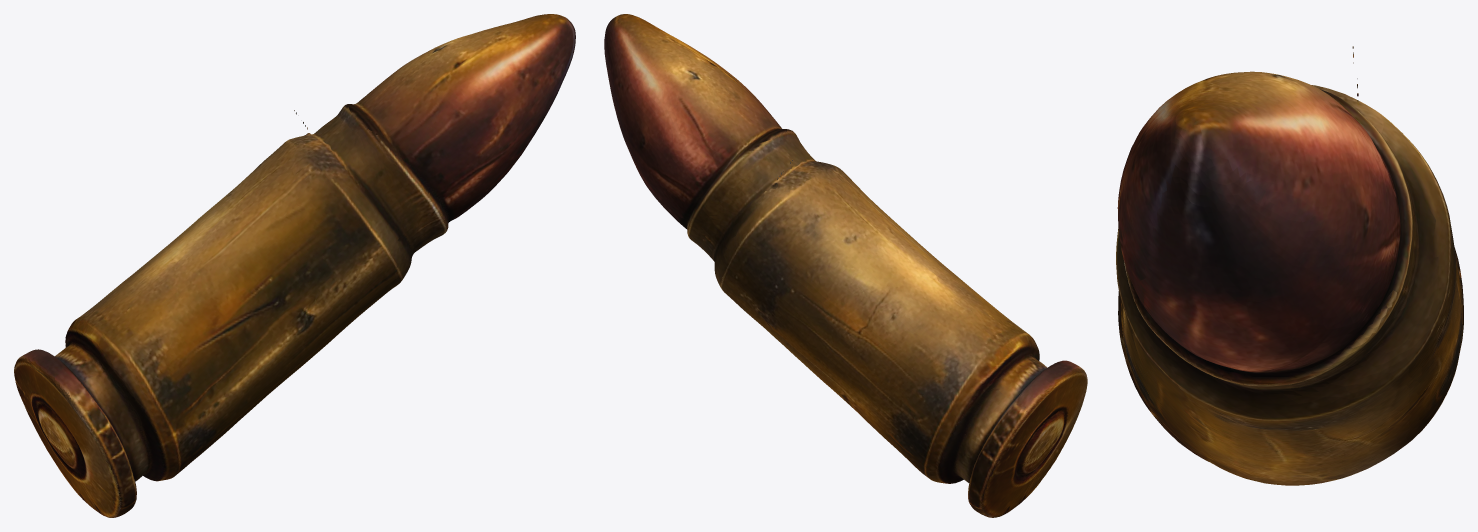
Rendered from cartridge-trial.glb.
The picture shows the model from 3 angles, left to right: view 1: azimuth 30°, elevation 25°; view 2: azimuth 150°, elevation 25°; view 3: azimuth 270°, elevation 25°; orthographic projection. The views are drawn at different scales.
Visible parts, largest first — view 1: geometry_0; view 2: geometry_0; view 3: geometry_0.
Boxes of the visible parts, <box> form: geometry_0: <box>14,14,575,517</box>; geometry_0: <box>604,14,1087,517</box>; geometry_0: <box>1116,46,1463,485</box>.
Size of the model in its own units: 0.045 by 0.034 by 0.0141.
1 material, 1 textured.
